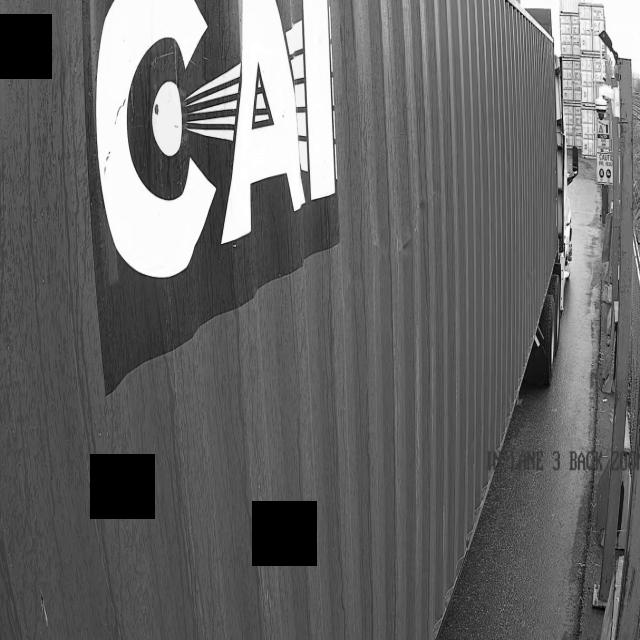container_company_logo: (70, 0, 418, 315)
truck_with_container: (0, 0, 569, 640)
